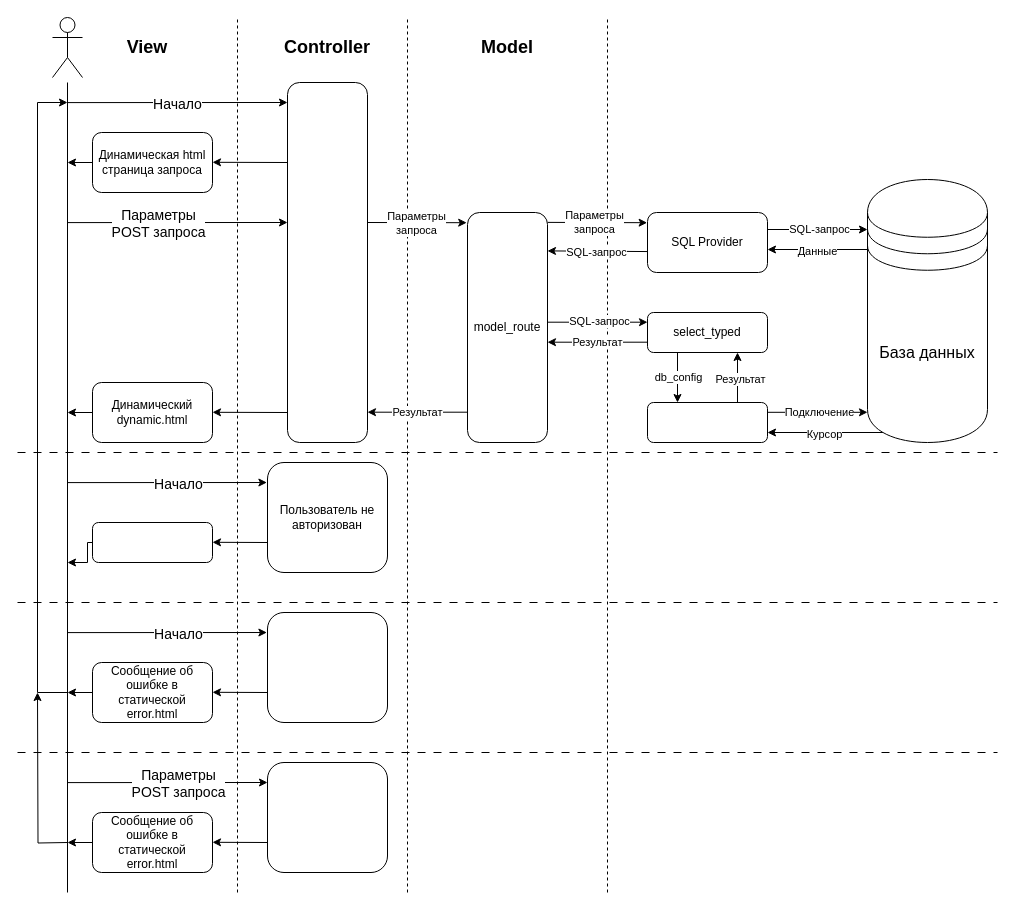
The diagram is 1016 pixels wide and 911 high, and some of its shapes have lost their labels. Each missing label, with the centre of its shape:
DB Context Manager: pixel 707 422
route: pixel 327 262
Данные отсутствуют: pixel 327 817
Переход на контроллер auth: pixel 152 542
У пользователя недостаточно прав: pixel 327 667
